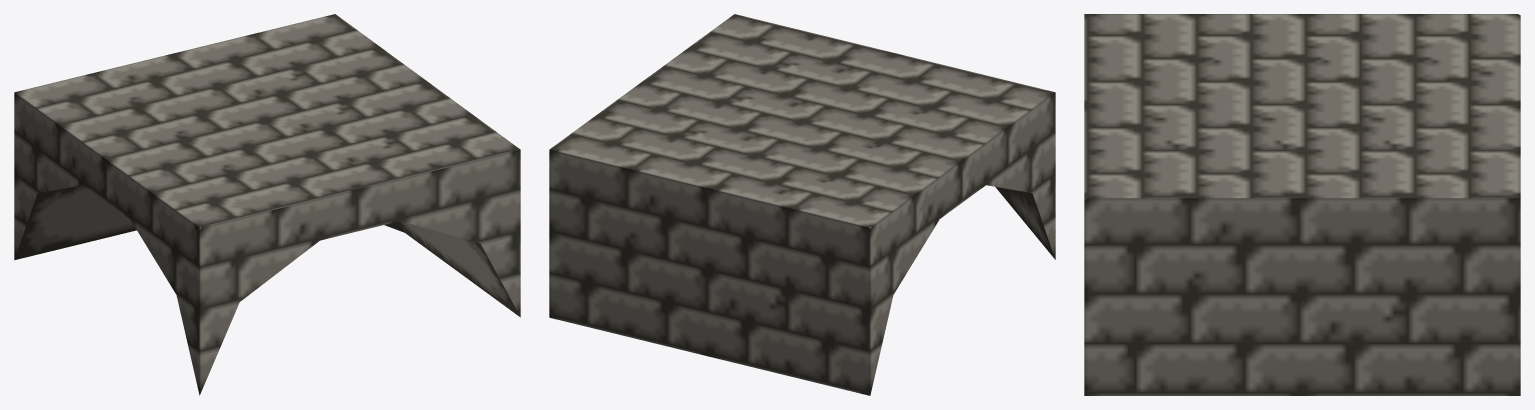
File: Ceiling_Arch_Skinny_Corner.fbx
3 views of the same model, side by side, from view 1: azimuth 30°, elevation 25°; view 2: azimuth 150°, elevation 25°; view 3: azimuth 270°, elevation 25° (orthographic). The views are drawn at different scales.
Parts seen in each view (by area): view 1: Ceiling_Arch_Skinny_Corner; view 2: Ceiling_Arch_Skinny_Corner; view 3: Ceiling_Arch_Skinny_Corner.
Boxes of the visible parts, x1,y1,x2,y2 form: Ceiling_Arch_Skinny_Corner: [14, 14, 520, 395]; Ceiling_Arch_Skinny_Corner: [549, 14, 1055, 395]; Ceiling_Arch_Skinny_Corner: [1084, 14, 1520, 395].
Size of the model in its own units: 400 by 200 by 400.
Materials: 1 (1 with a texture image).
